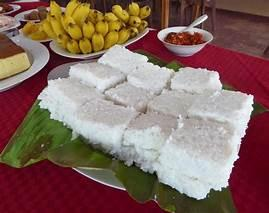Kiribath: (49, 45, 246, 197)
